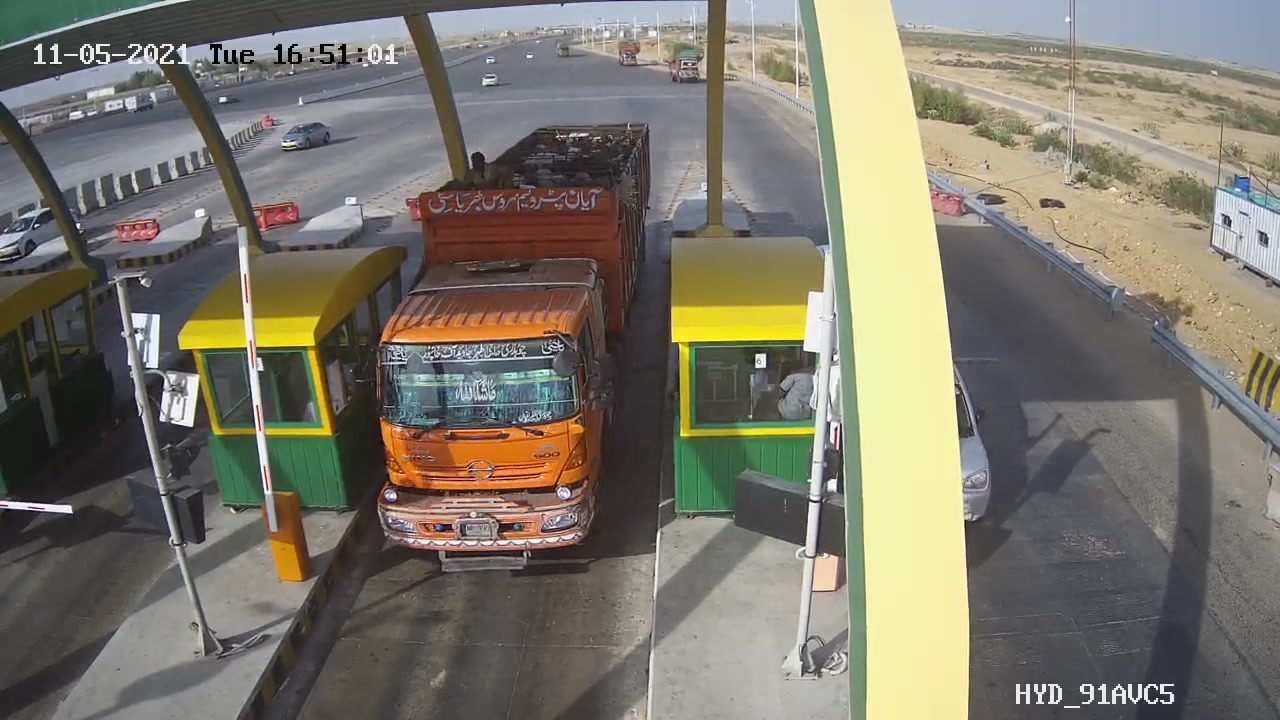F6: (331, 108, 674, 586)
